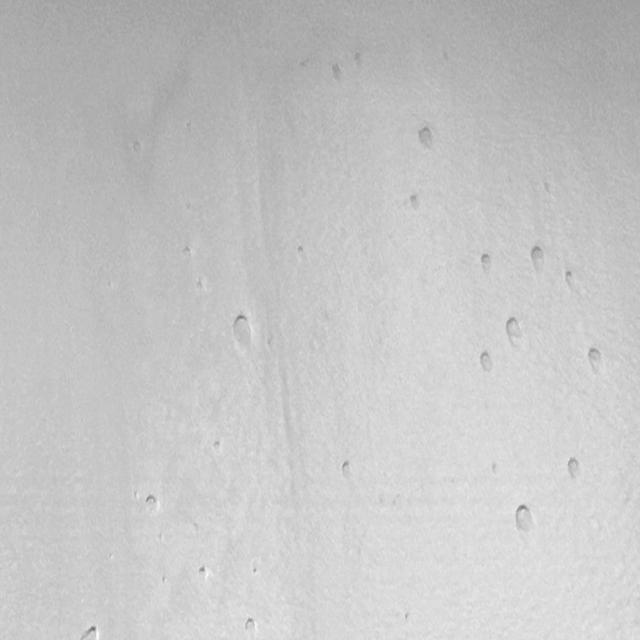pin holes: (512, 502, 541, 540), (228, 312, 256, 351), (501, 313, 528, 349), (528, 243, 552, 276), (414, 123, 438, 153), (585, 347, 608, 377), (563, 454, 584, 484), (476, 350, 498, 378), (325, 61, 347, 89), (476, 250, 497, 277), (405, 190, 426, 217), (339, 457, 358, 481), (80, 622, 105, 640), (243, 615, 262, 638), (564, 268, 580, 292), (127, 139, 147, 158), (145, 495, 162, 516), (353, 50, 367, 70), (490, 461, 506, 478), (196, 566, 212, 582), (182, 243, 197, 260), (194, 276, 208, 293), (296, 242, 309, 260), (213, 439, 226, 455), (252, 565, 264, 581), (160, 574, 171, 589)
